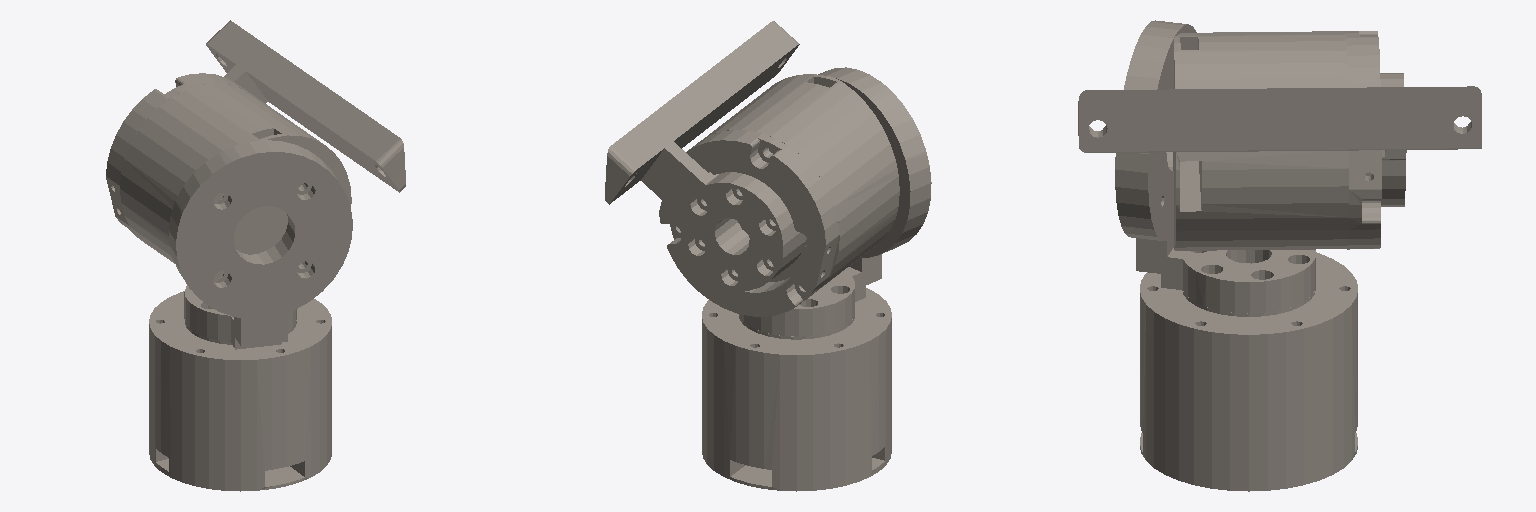
URDF robot description (oepnarm_with_head):
<?xml version="1.0" encoding="utf-8"?>
<!-- This URDF was automatically created by SolidWorks to URDF Exporter! Originally created by Stephen Brawner (brawner@gmail.com) 
     Commit Version: 1.6.0-4-g7f85cfe  Build Version: 1.6.7995.38578
     For more information, please see http://wiki.ros.org/sw_urdf_exporter -->
<robot
  name="oepnarm_with_head">
  <link
    name="head_link">
    <inertial>
      <origin
        xyz="-0.00028316 -2.8843E-08 -0.052418"
        rpy="0 0 0" />
      <mass
        value="0.051179" />
      <inertia
        ixx="1.86E-05"
        ixy="1.0497E-20"
        ixz="-4.882E-10"
        iyy="2.932E-05"
        iyz="1.6302E-21"
        izz="4.5153E-05" />
    </inertial>
    <visual>
      <origin
        xyz="0 0 0"
        rpy="0 0 0" />
      <geometry>
        <mesh
          filename="package://oepnarm_with_head/meshes/head_link.STL" />
      </geometry>
      <material
        name="">
        <color
          rgba="1 1 1 1" />
      </material>
    </visual>
    <collision>
      <origin
        xyz="0 0 0"
        rpy="0 0 0" />
      <geometry>
        <mesh
          filename="package://oepnarm_with_head/meshes/head_link.STL" />
      </geometry>
    </collision>
  </link>
  <link
    name="head_link_1">
    <inertial>
      <origin
        xyz="0.00014531 -0.00070511 -0.020389"
        rpy="0 0 0" />
      <mass
        value="0.90325" />
      <inertia
        ixx="0.0003341"
        ixy="-4.2445E-08"
        ixz="2.128E-06"
        iyy="0.0003425"
        iyz="5.4062E-06"
        izz="0.00036639" />
    </inertial>
    <visual>
      <origin
        xyz="0 0 0"
        rpy="0 0 0" />
      <geometry>
        <mesh
          filename="package://oepnarm_with_head/meshes/head_link_1.STL" />
      </geometry>
      <material
        name="">
        <color
          rgba="0.64706 0.61961 0.58824 1" />
      </material>
    </visual>
    <collision>
      <origin
        xyz="0 0 0"
        rpy="0 0 0" />
      <geometry>
        <mesh
          filename="package://oepnarm_with_head/meshes/head_link_1.STL" />
      </geometry>
    </collision>
  </link>
  <joint
    name="head_joint_1"
    type="revolute">
    <origin
      xyz="0 0 0"
      rpy="0 0 0" />
    <parent
      link="head_link" />
    <child
      link="head_link_1" />
    <axis
      xyz="0 0 1" />
    <limit
      lower="-3.1416"
      upper="3.1416"
      effort="20"
      velocity="10" />
    <dynamics
      damping="0.01"
      friction="0.005" />
  </joint>
  <link
    name="head_link_2">
    <inertial>
      <origin
        xyz="0.00052402 -0.020605 2.1821E-05"
        rpy="0 0 0" />
      <mass
        value="0.90595" />
      <inertia
        ixx="0.00034148"
        ixy="5.6411E-06"
        ixz="-2.0716E-06"
        iyy="0.00037256"
        iyz="-7.282E-07"
        izz="0.00034186" />
    </inertial>
    <visual>
      <origin
        xyz="0 0 0"
        rpy="0 0 0" />
      <geometry>
        <mesh
          filename="package://oepnarm_with_head/meshes/head_link_2.STL" />
      </geometry>
      <material
        name="">
        <color
          rgba="0.64706 0.61961 0.58824 1" />
      </material>
    </visual>
    <collision>
      <origin
        xyz="0 0 0"
        rpy="0 0 0" />
      <geometry>
        <mesh
          filename="package://oepnarm_with_head/meshes/head_link_2.STL" />
      </geometry>
    </collision>
  </link>
  <joint
    name="head_joint_2"
    type="revolute">
    <origin
      xyz="-0.00060308 0.025393 0.041392"
      rpy="0 0 0.023745" />
    <parent
      link="head_link_1" />
    <child
      link="head_link_2" />
    <axis
      xyz="0 1 0" />
    <limit
      lower="-0.523"
      upper="0.523"
      effort="0"
      velocity="0" />
    <dynamics
      damping="0.1"
      friction="0.05" />
  </joint>
  <link
    name="cam_link">
    <inertial>
      <origin
        xyz="-0.00014092 0.00048127 -0.01296"
        rpy="0 0 0" />
      <mass
        value="0.57964" />
      <inertia
        ixx="0.00068616"
        ixy="-3.2392E-07"
        ixz="-6.8493E-07"
        iyy="6.4091E-05"
        iyz="-1.9009E-07"
        izz="0.00069016" />
    </inertial>
    <visual>
      <origin
        xyz="0 0 0"
        rpy="0 0 0" />
      <geometry>
        <mesh
          filename="package://oepnarm_with_head/meshes/cam_link.STL" />
      </geometry>
      <material
        name="">
        <color
          rgba="0.2 0.2 0.2 1" />
      </material>
    </visual>
    <collision>
      <origin
        xyz="0 0 0"
        rpy="0 0 0" />
      <geometry>
        <mesh
          filename="package://oepnarm_with_head/meshes/cam_link.STL" />
      </geometry>
    </collision>
  </link>
  <joint
    name="camera"
    type="fixed">
    <origin
      xyz="0.06199 -0.018527 -0.0018607"
      rpy="3.1416 1.2591 -3.1416" />
    <parent
      link="head_link_2" />
    <child
      link="cam_link" />
    <axis
      xyz="0 0 0" />
  </joint>
</robot>

--- Render facts (derived) ---
The picture shows the robot from 3 angles, left to right: view 1: azimuth 30°, elevation 25°; view 2: azimuth 150°, elevation 25°; view 3: azimuth 270°, elevation 25°; orthographic projection.
Robot: oepnarm_with_head — 4 links, 3 joints (2 revolute, 1 fixed); root link head_link; default pose: every joint at zero.
Visible links, largest first — view 1: head_link_1, head_link_2; view 2: head_link_2, head_link_1; view 3: head_link_2, head_link_1.
Link boxes in pixels (box(x1,y1,x2,y2)): head_link_1: box(149, 140, 352, 491); head_link_2: box(106, 20, 405, 282); head_link_2: box(605, 21, 899, 316); head_link_1: box(702, 67, 931, 491); head_link_2: box(1078, 31, 1481, 250); head_link_1: box(1115, 20, 1357, 491).
Bounding box of the posed robot: 0.0688 × 0.1052 × 0.1174 m (x, y, z).
Meshes: 4 distinct files referenced, 2 mesh visuals loaded (2 binary STL); not drawn: 2 (reference not matched to a file when rendering).
